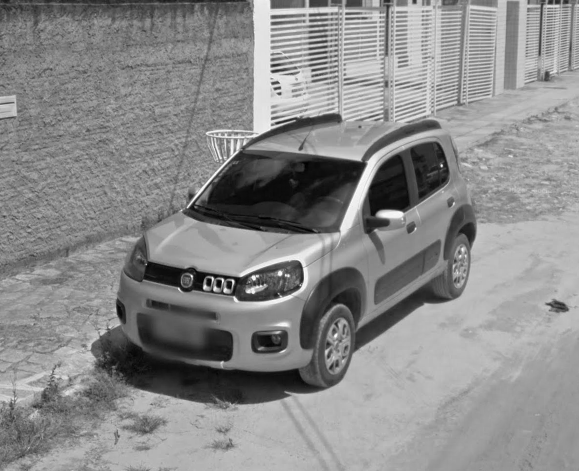car: (113, 112, 480, 391)
